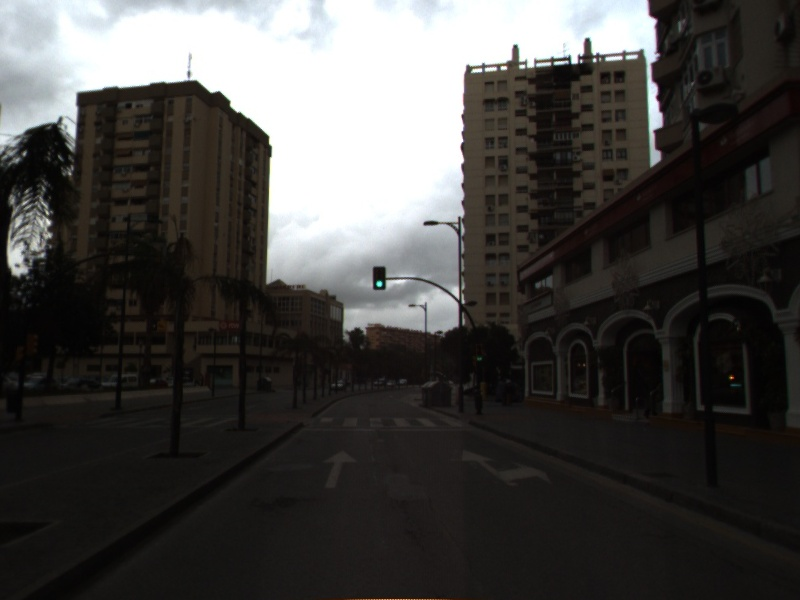STRAIGHT: (319, 448, 361, 490)
STRAIGHT_RIGHT: (459, 446, 553, 489)
